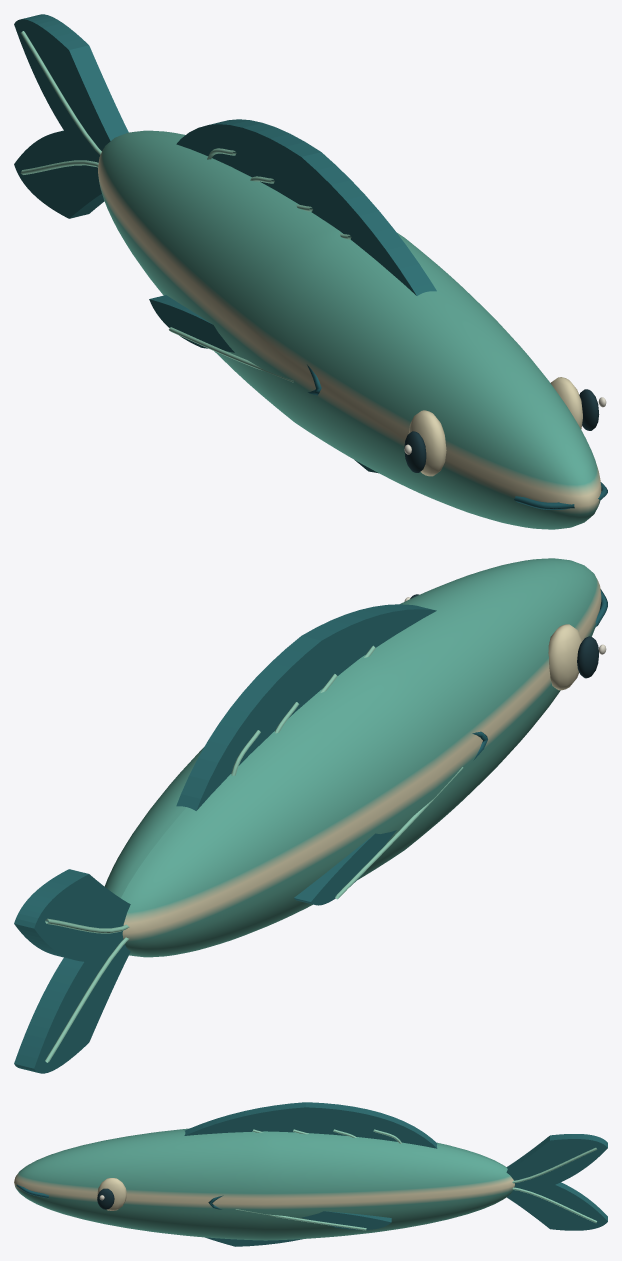
The model's file is ocean-fish-2.glb.
The picture shows the model from 3 angles, top to bottom: view 1: azimuth 30°, elevation 25°; view 2: azimuth 150°, elevation 25°; view 3: azimuth 270°, elevation 25°; orthographic projection. The views are drawn at different scales.
Parts seen in each view (by area): view 1: Body, Tail, PectoralFins; view 2: Body, Tail, PectoralFins; view 3: Body, Tail, PectoralFins.
Part boxes in pixels (box(x1,y1,x2,y2)): Body: box(98, 119, 607, 529); Tail: box(14, 14, 128, 218); PectoralFins: box(149, 295, 293, 382); Body: box(104, 558, 607, 957); Tail: box(14, 869, 130, 1073); PectoralFins: box(294, 767, 463, 905); Body: box(14, 1102, 514, 1246); Tail: box(506, 1134, 607, 1230); PectoralFins: box(235, 1209, 391, 1230).
Bounding box in the file's own units: 0.3478 × 0.4403 × 1.7.
